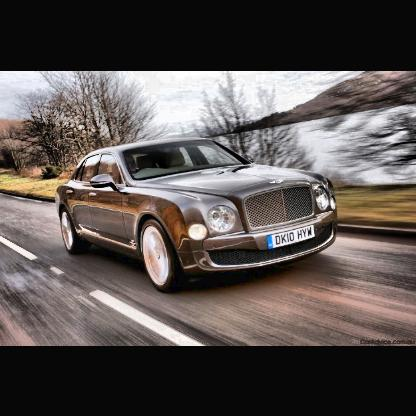Bentley Mulsanne Sedan 2011: (57, 137, 339, 293)
